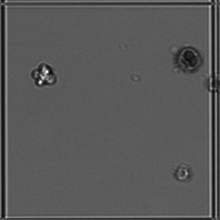Dead Cell: (172, 41, 206, 75), (168, 159, 195, 186)
Living Cell: (27, 60, 61, 94)
